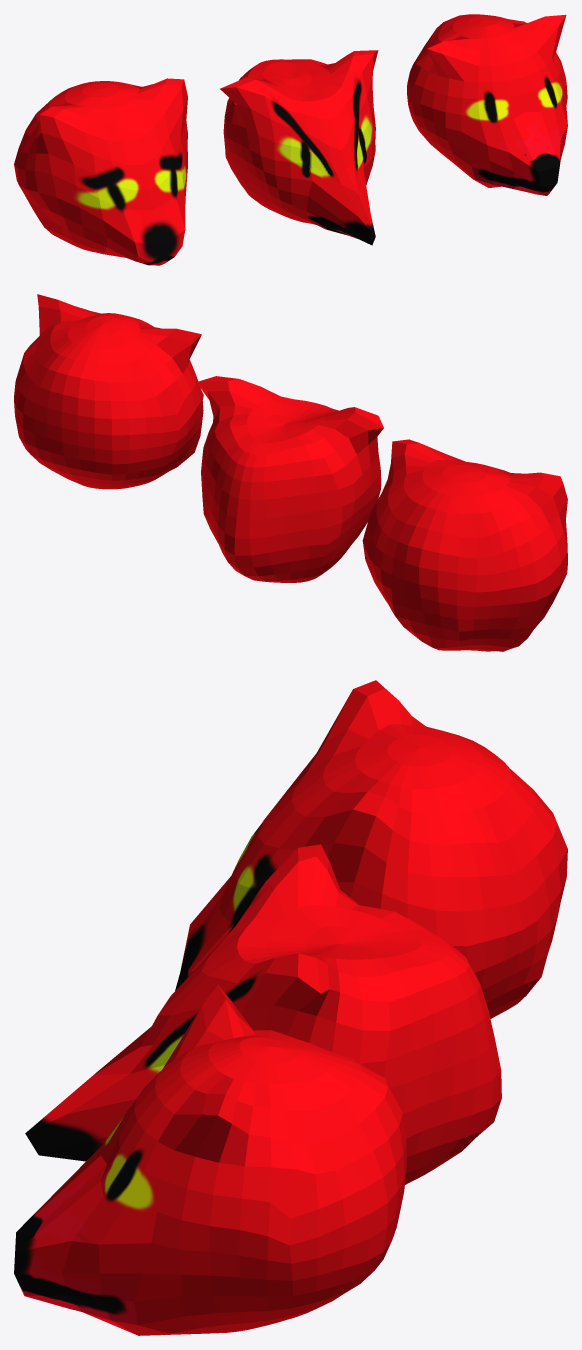
Rendered from joms.fbx.
3 renders of one model, top to bottom at view 1: azimuth 30°, elevation 25°; view 2: azimuth 150°, elevation 25°; view 3: azimuth 270°, elevation 25°, orthographic. The views are drawn at different scales.
Visible parts, largest first — view 1: Sphere.002, Sphere, Sphere.001; view 2: Sphere.002, Sphere.001, Sphere; view 3: Sphere, Sphere.001, Sphere.002.
Boxes of the visible parts, x1,y1,x2,y2 form: Sphere.002: [14, 78, 187, 265]; Sphere: [407, 14, 567, 195]; Sphere.001: [220, 50, 378, 245]; Sphere.002: [362, 439, 567, 651]; Sphere.001: [196, 376, 383, 582]; Sphere: [14, 294, 203, 489]; Sphere: [14, 984, 406, 1335]; Sphere.001: [25, 844, 501, 1184]; Sphere.002: [175, 680, 567, 1018].
Bounding box in the file's own units: 667 × 208 × 336.
3 materials, 3 textured.
